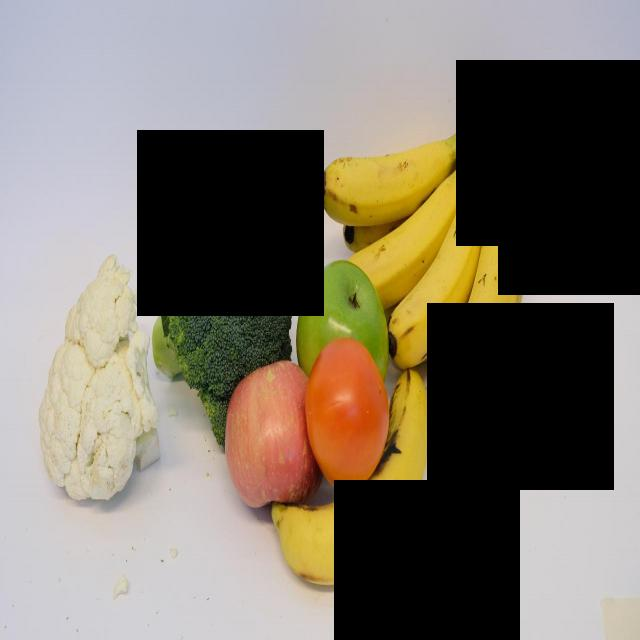apple: (224, 355, 324, 508), (297, 256, 388, 386)
banana: (270, 367, 433, 586), (348, 134, 485, 305), (388, 168, 492, 367), (315, 107, 485, 225), (445, 162, 527, 404)
broccoli: (152, 171, 293, 448)
cauliflower: (38, 252, 161, 502)
tomato: (306, 336, 387, 489)
